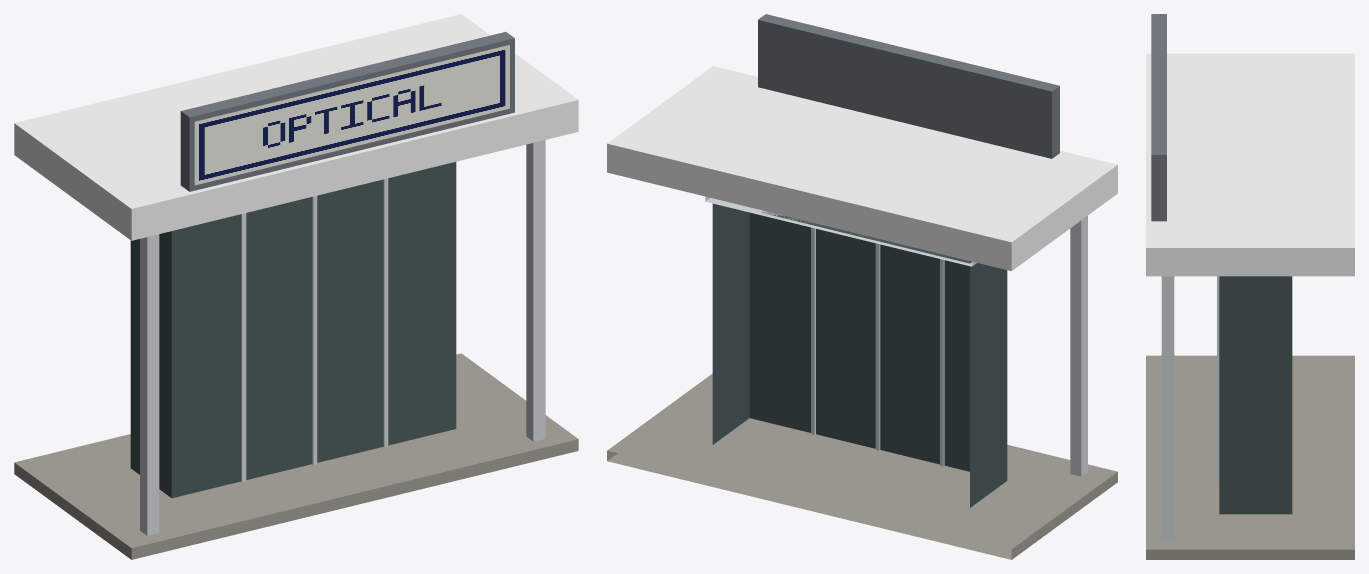
File: entrance_close.fbx
The picture shows the model from 3 angles, left to right: view 1: azimuth 30°, elevation 25°; view 2: azimuth 150°, elevation 25°; view 3: azimuth 270°, elevation 25°; orthographic projection. The views are drawn at different scales.
Parts seen in each view (by area): view 1: a2009/400/entrance_close; view 2: a2009/400/entrance_close; view 3: a2009/400/entrance_close.
Boxes of the visible parts, x1,y1,x2,y2 form: a2009/400/entrance_close: [14, 14, 578, 559]; a2009/400/entrance_close: [607, 14, 1117, 559]; a2009/400/entrance_close: [1146, 14, 1354, 559].
Bounding box in the file's own units: 4.4 × 4 × 2.
